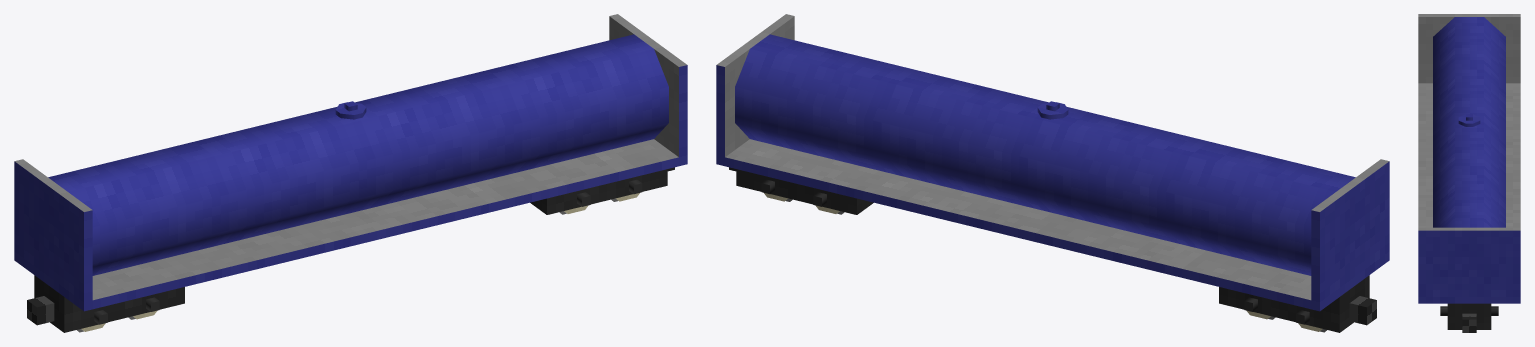
3 renders of one model, left to right at view 1: azimuth 30°, elevation 25°; view 2: azimuth 150°, elevation 25°; view 3: azimuth 270°, elevation 25°, orthographic. The views are drawn at different scales.
Visible parts, largest first — view 1: FRAME.tank, FRAME, BOGEY_FRONT, BOGEY_REAR, BOGEY_FRONT.couple; view 2: FRAME.tank, FRAME, BOGEY_FRONT, BOGEY_REAR, BOGEY_FRONT.couple; view 3: FRAME, FRAME.tank, BOGEY_REAR, BOGEY_REAR.couple, FRAME.fillerbase, BOGEY_REAR_WHEEL_1.
Part boxes in pixels (x1=…): FRAME.tank: x1=48, y1=34, x2=668, y2=275; FRAME: x1=14, y1=14, x2=687, y2=311; BOGEY_FRONT: x1=34, y1=275, x2=184, y2=332; BOGEY_REAR: x1=530, y1=169, x2=667, y2=214; BOGEY_FRONT.couple: x1=27, y1=296, x2=54, y2=325; FRAME.tank: x1=735, y1=34, x2=1355, y2=275; FRAME: x1=716, y1=14, x2=1389, y2=311; BOGEY_FRONT: x1=1219, y1=275, x2=1369, y2=332; BOGEY_REAR: x1=736, y1=169, x2=873, y2=214; BOGEY_FRONT.couple: x1=1349, y1=296, x2=1376, y2=325; FRAME: x1=1418, y1=14, x2=1520, y2=303; FRAME.tank: x1=1433, y1=17, x2=1505, y2=227; BOGEY_REAR: x1=1447, y1=303, x2=1491, y2=329; BOGEY_REAR.couple: x1=1462, y1=313, x2=1476, y2=332; FRAME.fillerbase: x1=1458, y1=114, x2=1480, y2=126; BOGEY_REAR_WHEEL_1: x1=1440, y1=306, x2=1498, y2=315.
Size of the model in its own units: 4.62 by 1.09 by 0.875.
Materials: 3 (3 with a texture image).
